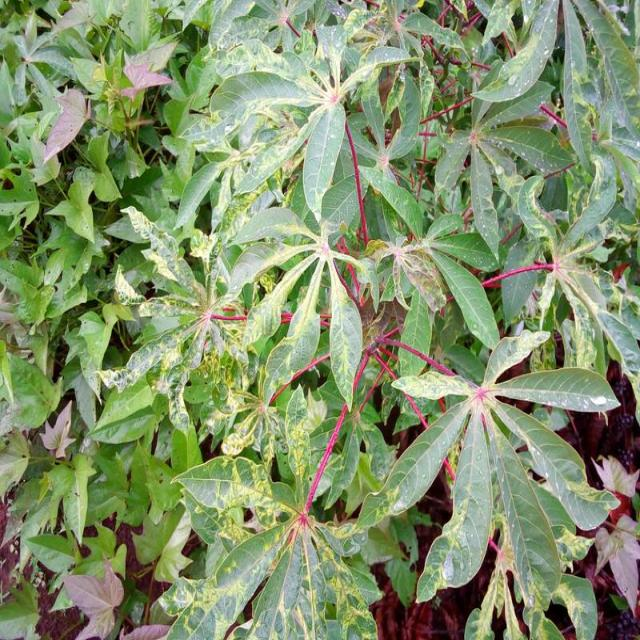cassava leaf: (4, 0, 638, 638), (363, 326, 622, 616)
